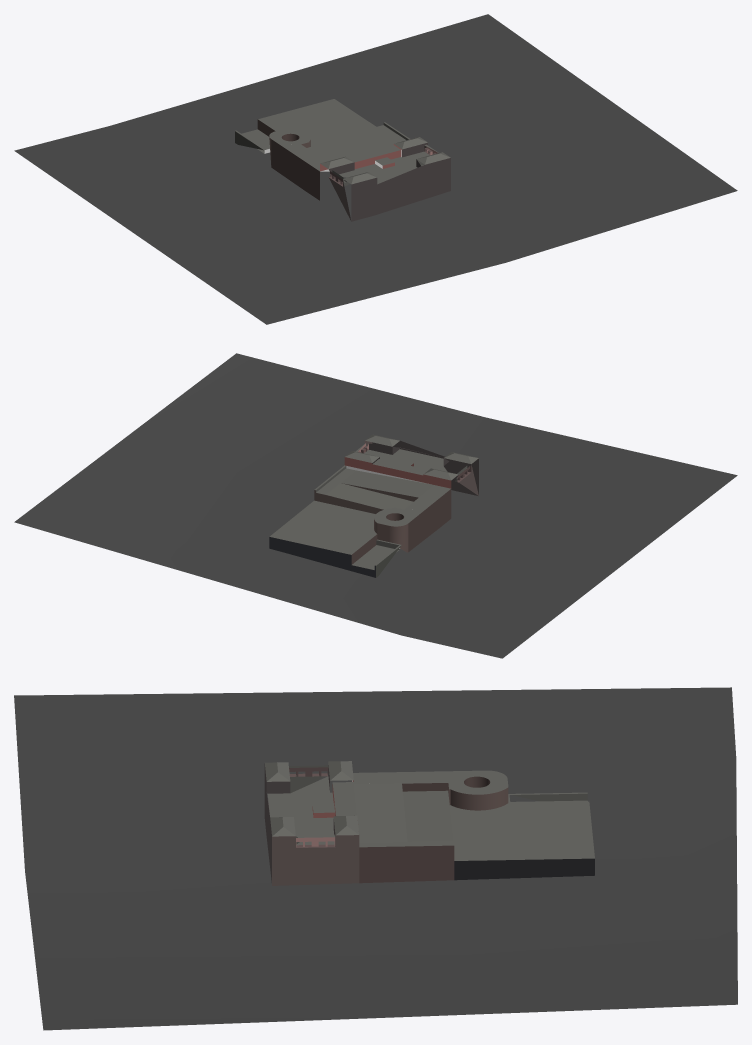
File: market-court.glb
3 views of the same model, one above another, from view 1: azimuth 30°, elevation 25°; view 2: azimuth 150°, elevation 25°; view 3: azimuth 270°, elevation 25° (orthographic). The views are drawn at different scales.
Parts seen in each view (by area): view 1: LOD0; view 2: LOD0; view 3: LOD0.
Boxes of the visible parts, bbox=[...] form: LOD0: bbox=[14, 14, 737, 324]; LOD0: bbox=[14, 353, 737, 658]; LOD0: bbox=[14, 687, 737, 1030].
Size of what is drawn, in the model's own units: 294 by 23.16 by 252.
2 materials, 2 textured.
